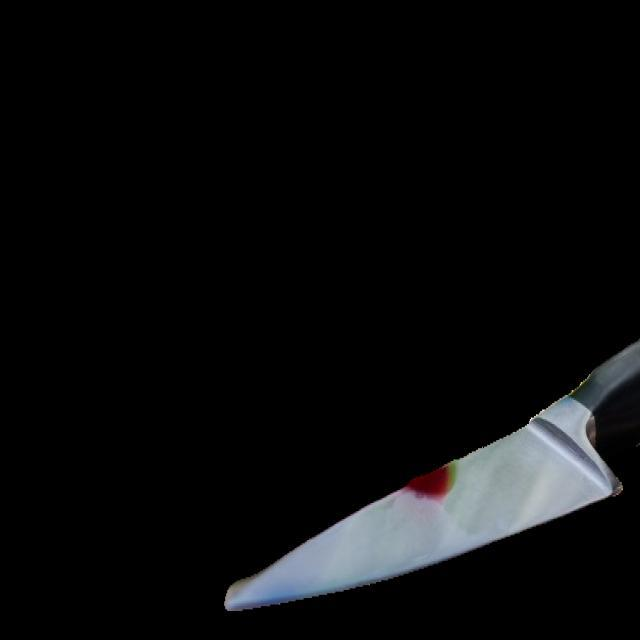knife: (225, 337, 639, 616)
